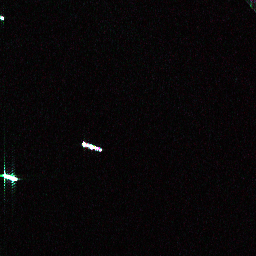ship: (79, 138, 104, 155), (1, 171, 19, 183)
